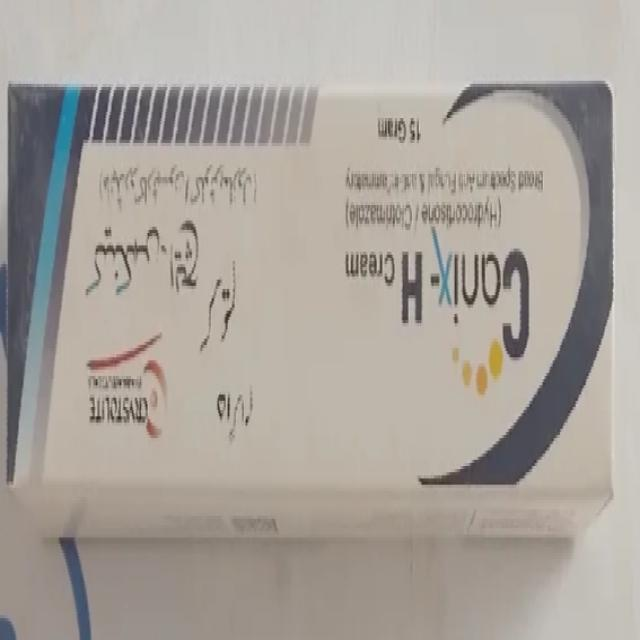drug-name: (398, 244, 536, 360)
